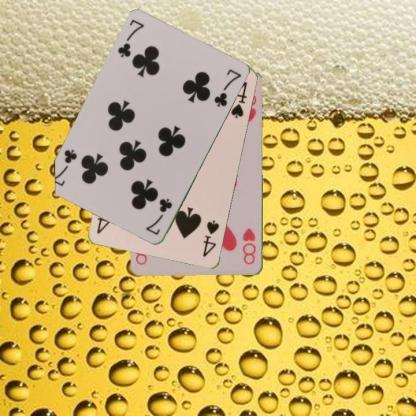4s: (200, 218, 221, 259)
7c: (115, 16, 146, 60), (143, 196, 174, 237)
8h: (240, 225, 258, 266)
